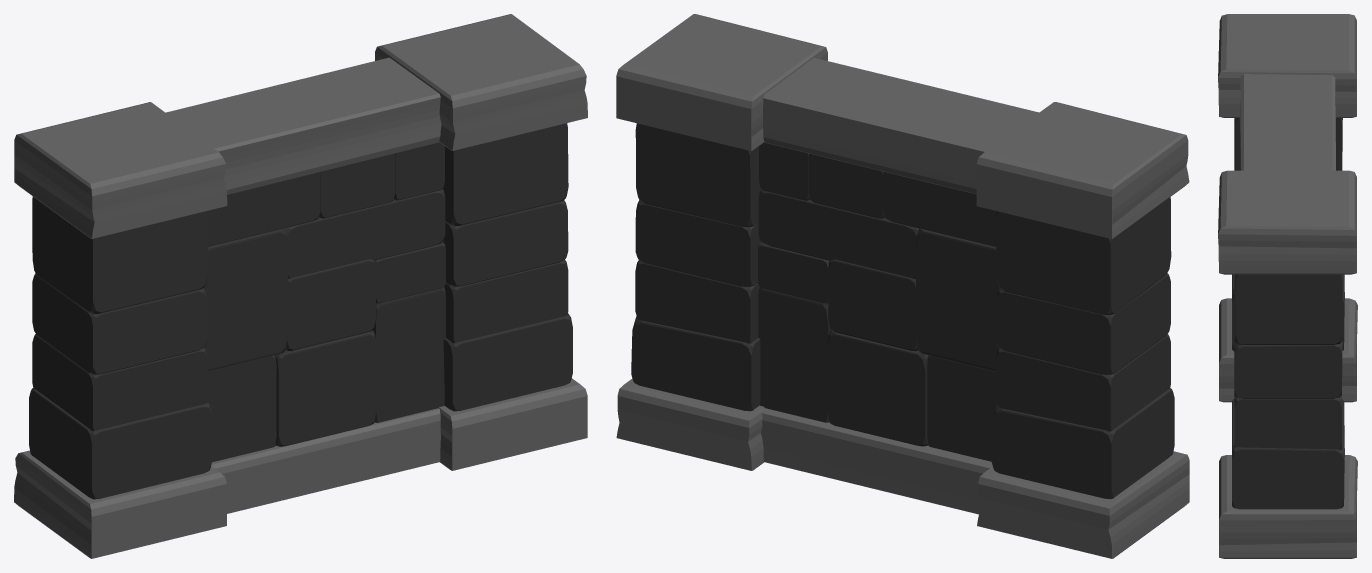
Rendered from Wall_01.fbx.
3 views of the same model, side by side, from view 1: azimuth 30°, elevation 25°; view 2: azimuth 150°, elevation 25°; view 3: azimuth 270°, elevation 25° (orthographic). The views are drawn at different scales.
Parts seen in each view (by area): view 1: Wall_01; view 2: Wall_01; view 3: Wall_01.
Boxes of the visible parts, <box> form: Wall_01: <box>14,14,587,558</box>; Wall_01: <box>616,14,1189,558</box>; Wall_01: <box>1218,14,1357,558</box>.
Bounding box in the file's own units: 570 × 410 × 156.
